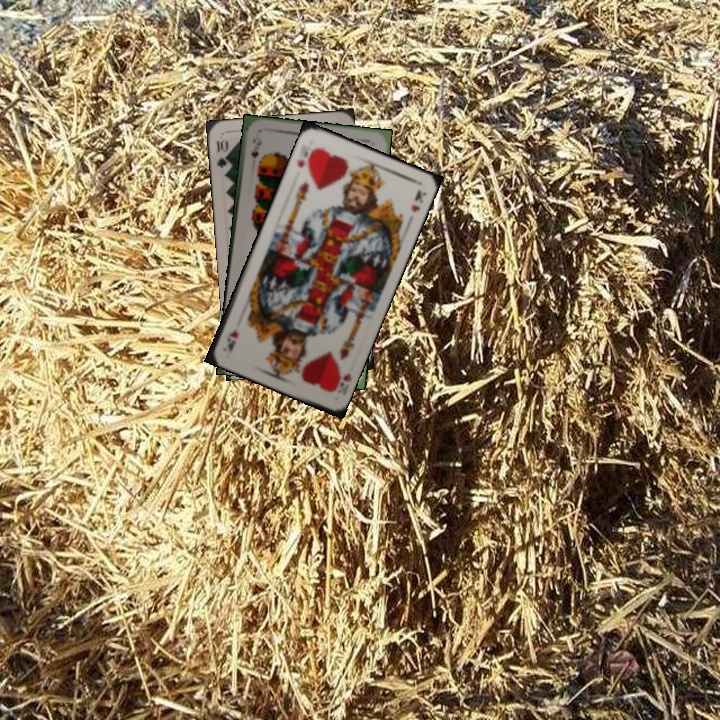G10: (212, 136, 232, 171)
HK: (327, 366, 354, 395), (293, 143, 319, 172)
S9: (246, 134, 264, 161)
